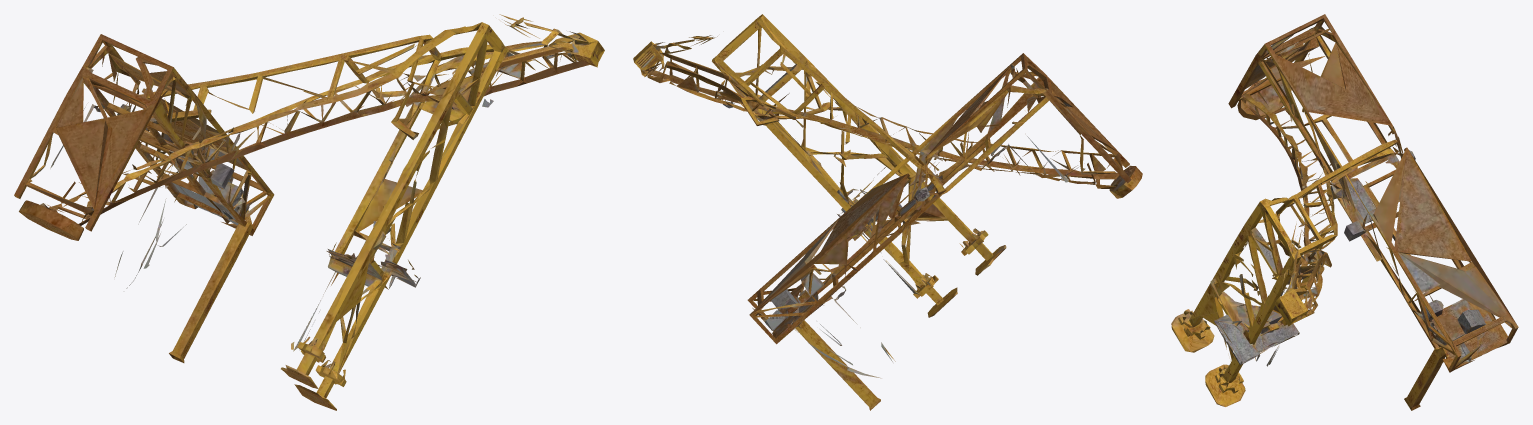
The model's file is collapsed_crane_boom.glb.
3 views of the same model, side by side, from view 1: azimuth 30°, elevation 25°; view 2: azimuth 150°, elevation 25°; view 3: azimuth 270°, elevation 25° (orthographic). The views are drawn at different scales.
Bounding box in the file's own units: 2.81 × 1.82 × 1.68.
Materials: 1 (1 with a texture image).
